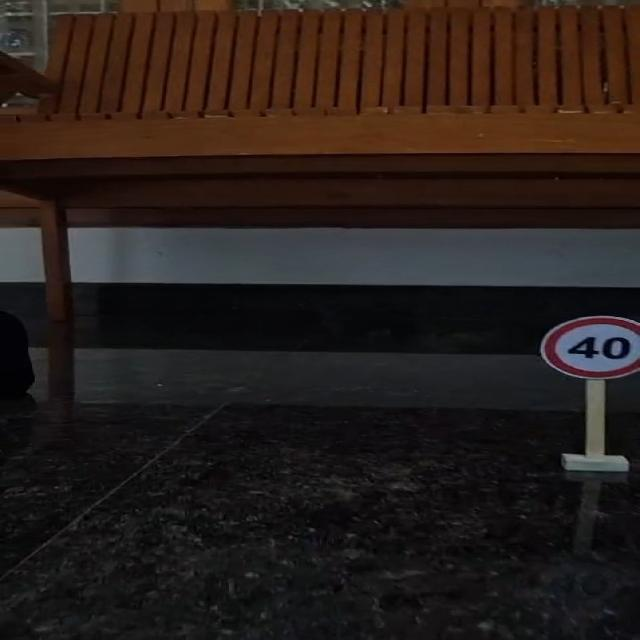Speed40: (534, 310, 640, 382)
